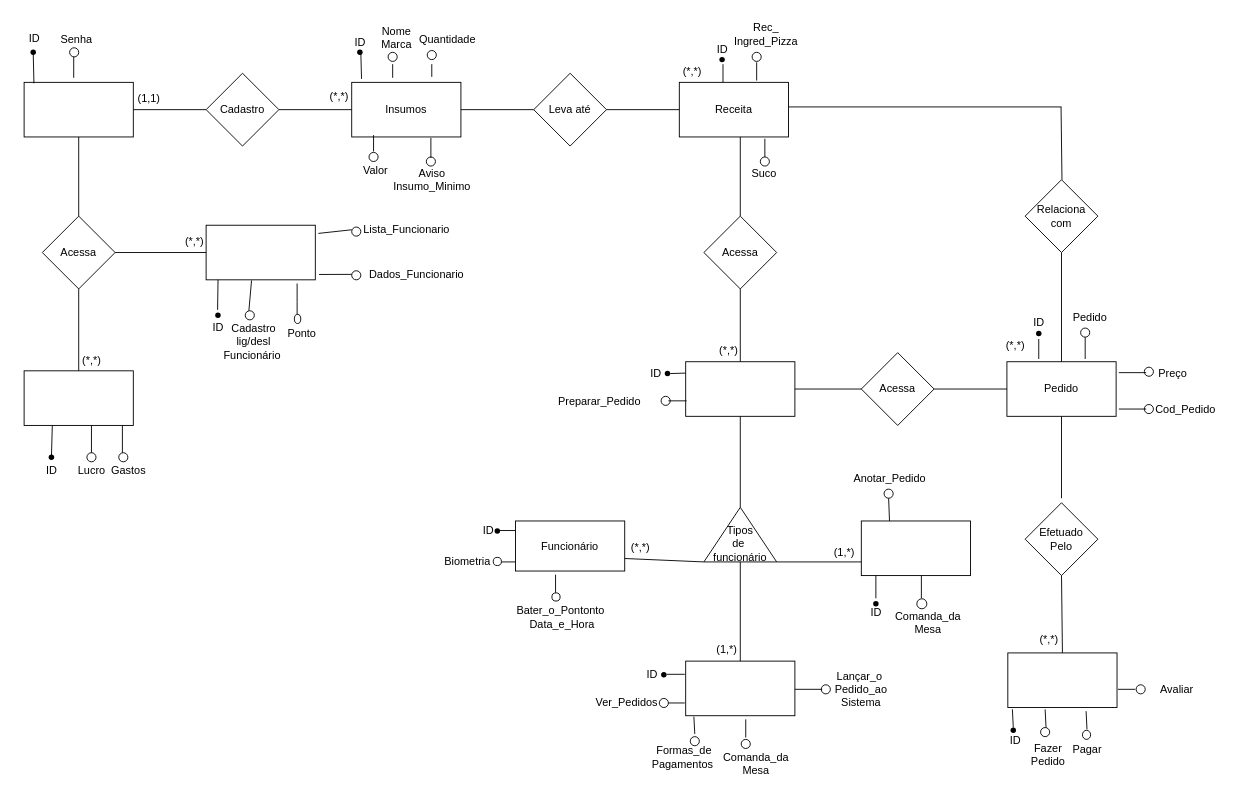
Some shapes in this 1249 by 797 pixel diagram are drawn without their labels. Each missing label, with the centre of its shape:
Administrador: the point at 78,109
Cadrastrar_Funcionário: the point at 260,252
Caixa: the point at 740,688
Cliente: the point at 1062,680
Cozinheiro: the point at 740,388
Finanças: the point at 78,397
Garçom: the point at 915,548
